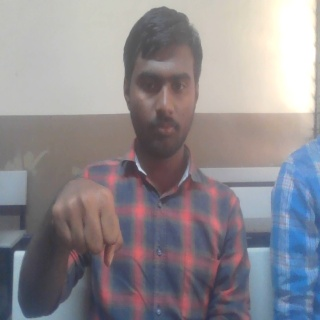Face: (124, 4, 202, 165)
Yes: (50, 176, 122, 269)
